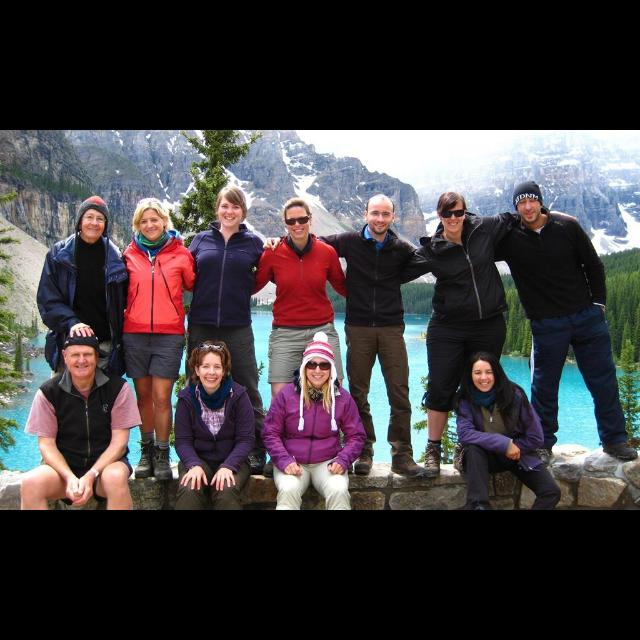head: (134, 198, 170, 242), (62, 338, 101, 378), (364, 193, 398, 237), (195, 344, 227, 390), (78, 197, 110, 241), (512, 182, 544, 224), (215, 186, 247, 228), (437, 190, 467, 233), (304, 343, 332, 389), (470, 351, 500, 393)
person: (352, 189, 580, 483), (260, 192, 452, 486), (466, 177, 640, 467), (146, 180, 294, 478), (36, 193, 134, 484), (118, 196, 198, 484)
